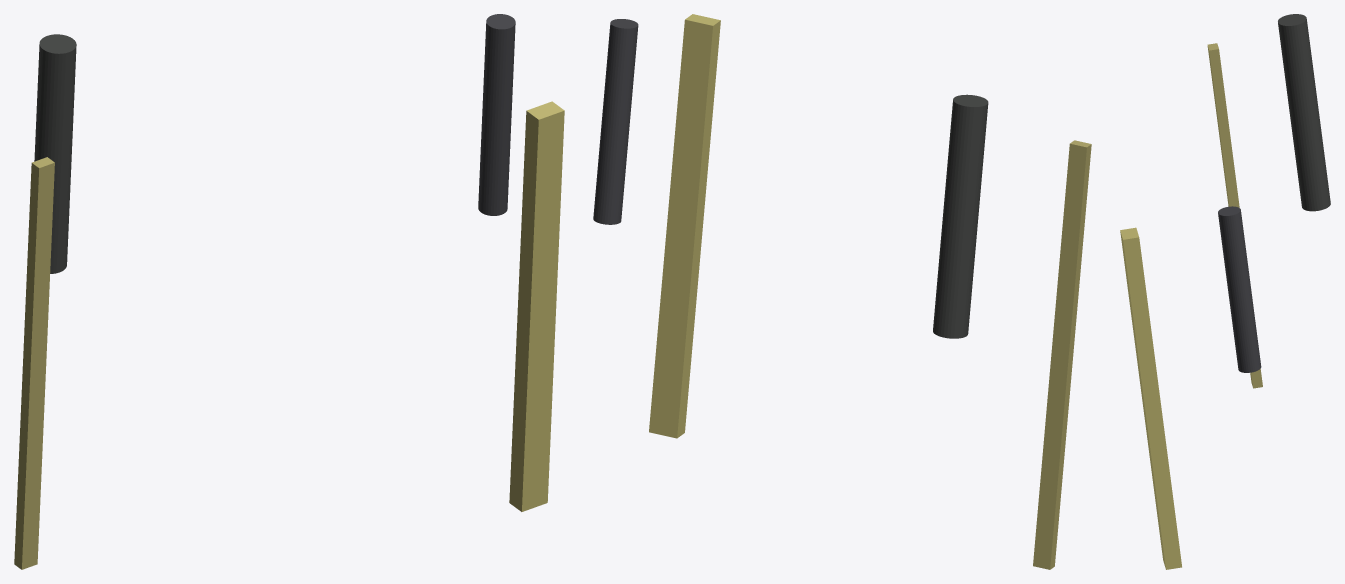
The model's file is posts.glb.
3 views of the same model, side by side, from view 1: azimuth 30°, elevation 25°; view 2: azimuth 150°, elevation 25°; view 3: azimuth 270°, elevation 25° (orthographic). The views are drawn at different scales.
Visible parts, largest first — view 1: box-1, box-2, cylinder-2, cylinder-1; view 2: box-1, box-2, cylinder-2, cylinder-1; view 3: box-1, cylinder-2, cylinder-1, box-2.
Part boxes in pixels (x1,y1,x2,y2): box-1: (509, 101, 564, 511); box-2: (14, 157, 54, 569); cylinder-2: (34, 34, 76, 273); cylinder-1: (478, 14, 515, 215); box-1: (649, 14, 720, 438); box-2: (1033, 140, 1091, 569); cylinder-2: (933, 94, 988, 338); cylinder-1: (593, 19, 638, 224); box-1: (1120, 227, 1181, 569); cylinder-2: (1278, 14, 1330, 211); cylinder-1: (1218, 206, 1261, 372); box-2: (1207, 43, 1262, 388).
Bounding box in the file's own units: 3.14 × 3.05 × 1.48.
